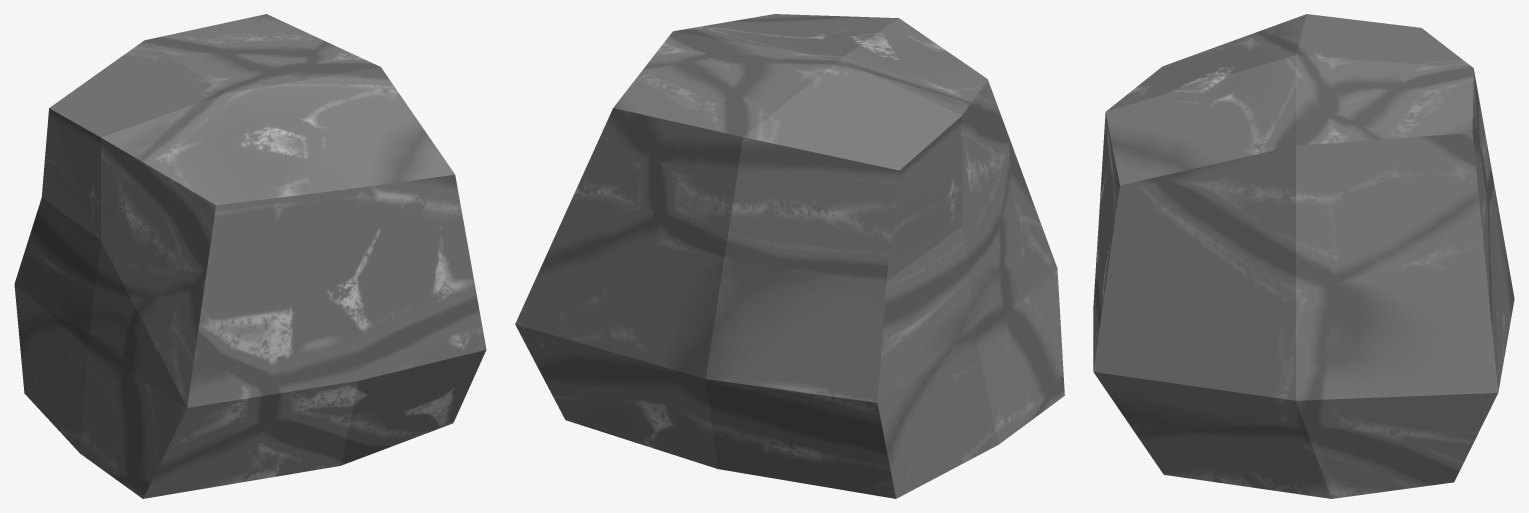
Rendered from Rock_3.FBX.
The picture shows the model from 3 angles, left to right: view 1: azimuth 30°, elevation 25°; view 2: azimuth 150°, elevation 25°; view 3: azimuth 270°, elevation 25°; orthographic projection. The views are drawn at different scales.
Visible parts, largest first — view 1: Box001; view 2: Box001; view 3: Box001.
Part boxes in pixels (x1,y1,x2,y2): Box001: (14, 14, 486, 498); Box001: (515, 14, 1064, 498); Box001: (1093, 14, 1514, 498).
Bounding box in the file's own units: 10.89 × 9.17 × 10.4.
